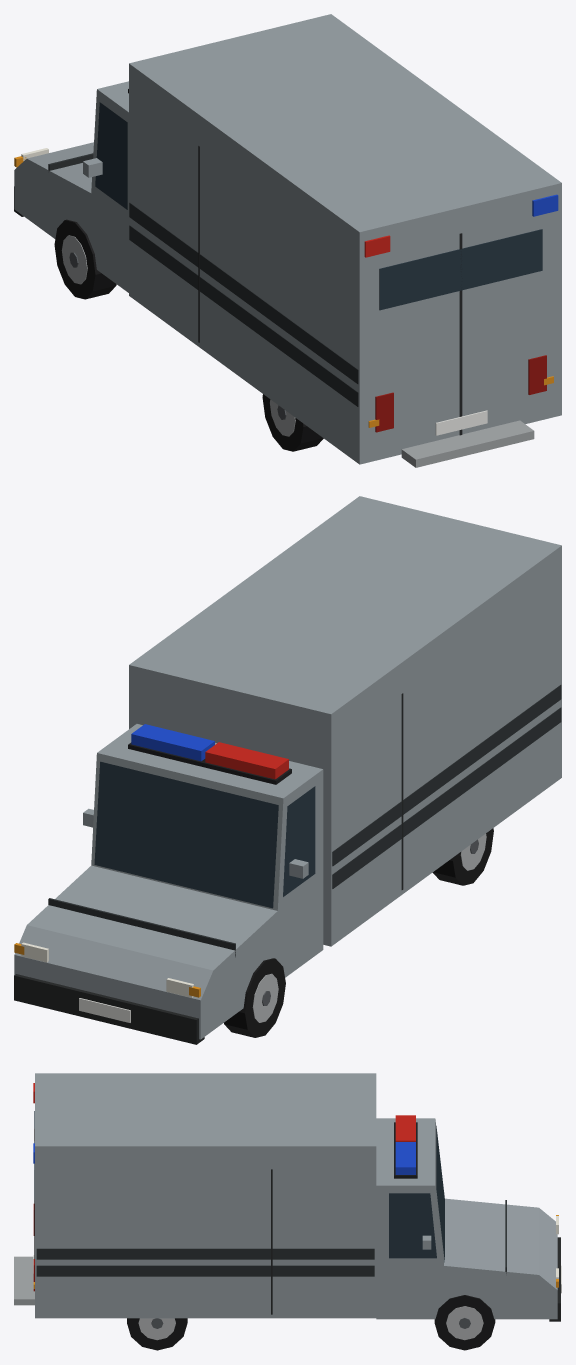
The model's file is ambulance.glb.
3 renders of one model, top to bottom at view 1: azimuth 30°, elevation 25°; view 2: azimuth 150°, elevation 25°; view 3: azimuth 270°, elevation 25°, orthographic. The views are drawn at different scales.
Visible parts, largest first — view 1: Ambulance, TailR, TailL; view 2: Ambulance, Red, Blue, LightBase; view 3: Ambulance, Blue, Red.
Part boxes in pixels (bbox=[...]): Ambulance: bbox=[14, 14, 561, 467]; TailR: bbox=[528, 355, 546, 394]; TailL: bbox=[375, 392, 393, 432]; Ambulance: bbox=[14, 496, 561, 1044]; Red: bbox=[205, 742, 288, 779]; Blue: bbox=[131, 724, 214, 761]; LightBase: bbox=[128, 742, 291, 784]; Ambulance: bbox=[14, 1073, 561, 1350]; Blue: bbox=[33, 1142, 415, 1174]; Red: bbox=[33, 1083, 415, 1141].
Size of the model in its own units: 2.23 by 2.7 by 6.5.
